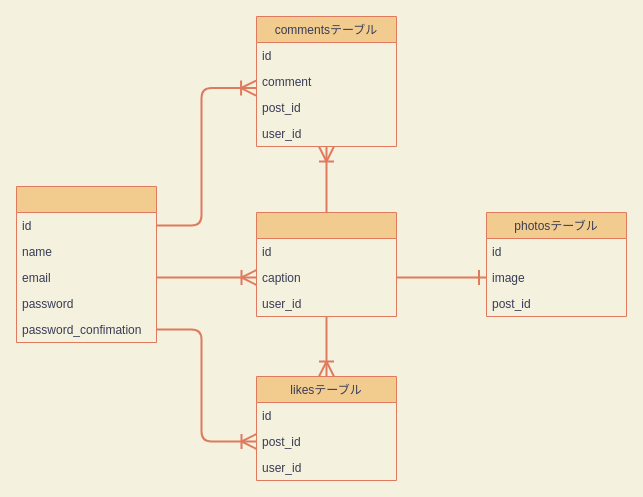
Image size: 643x497. Some labels were removed from this diagram. Each missing label, with the box of its shape:
postsテーブル: (256, 212, 396, 316)
usersテーブル: (16, 186, 156, 342)
